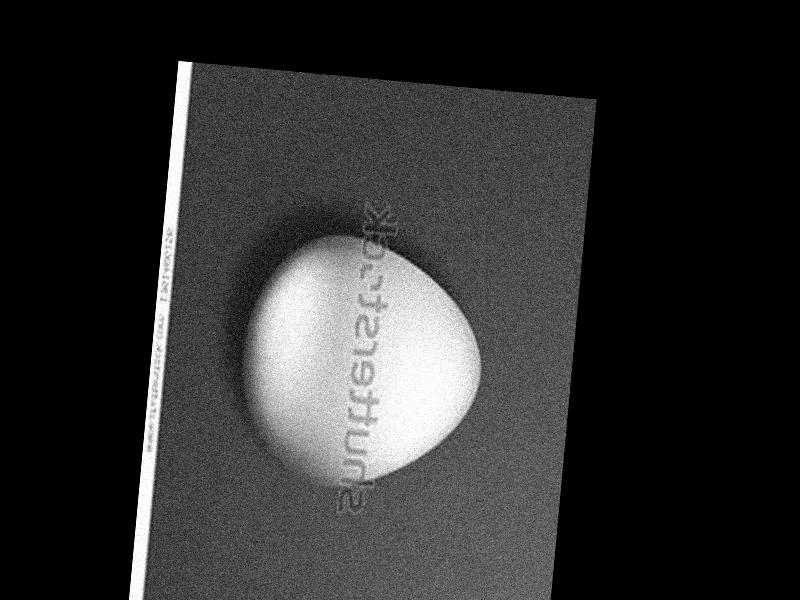Eggs: (234, 228, 493, 499)
